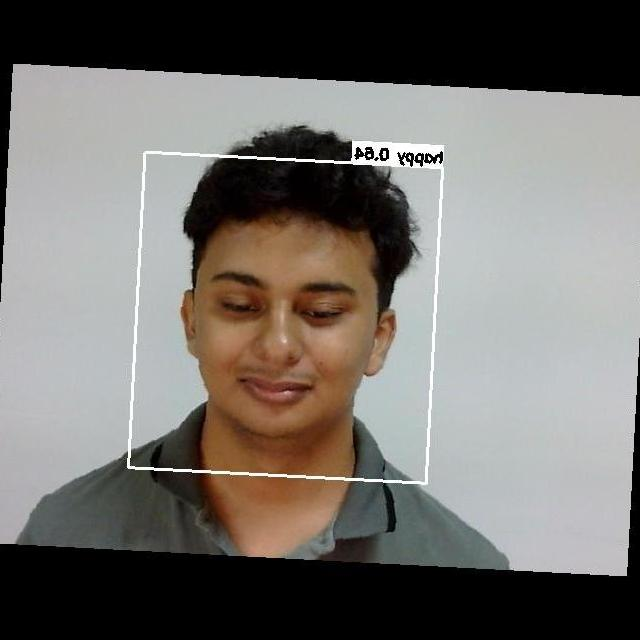Happy: (179, 241, 381, 429)
